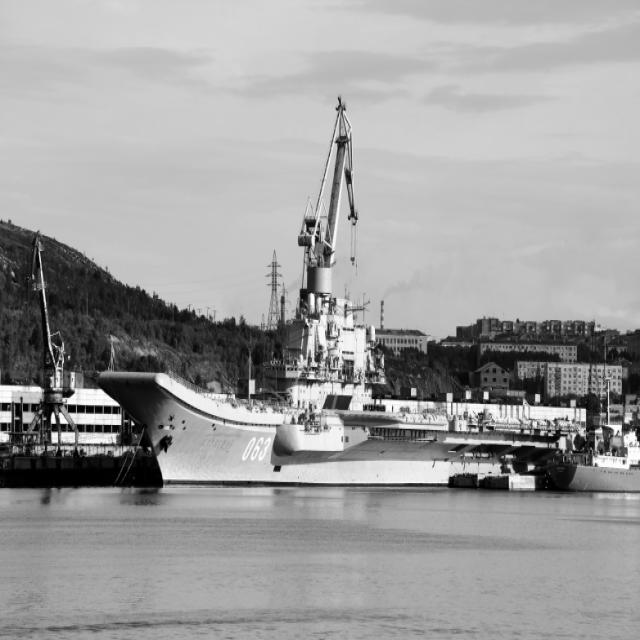Portanaves: (92, 261, 590, 492)
